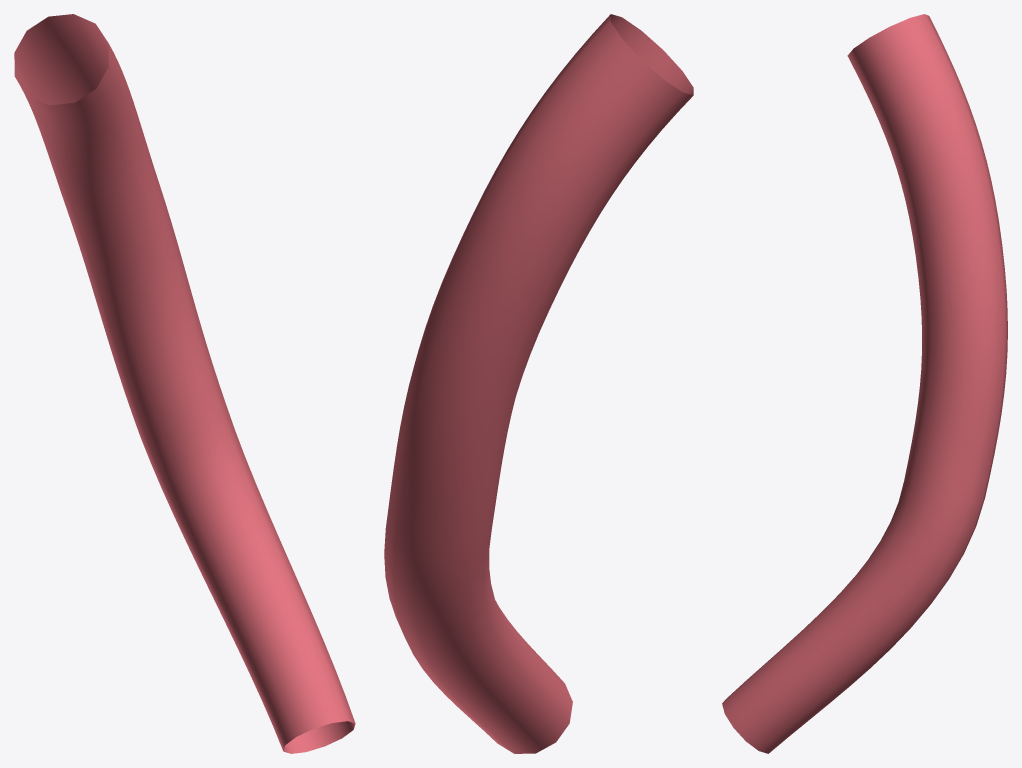
3 renders of one model, left to right at view 1: azimuth 30°, elevation 25°; view 2: azimuth 150°, elevation 25°; view 3: azimuth 270°, elevation 25°, orthographic. The views are drawn at different scales.
Visible parts, largest first — view 1: ZA_128b8a9c3e090bc5; view 2: ZA_128b8a9c3e090bc5; view 3: ZA_128b8a9c3e090bc5.
Part boxes in pixels (box(x1,y1,x2,y2)): ZA_128b8a9c3e090bc5: box(14, 14, 355, 753); ZA_128b8a9c3e090bc5: box(384, 14, 693, 753); ZA_128b8a9c3e090bc5: box(722, 14, 1007, 753).
Bounding box in the file's own units: 0.0349 × 0.0955 × 0.0374.
